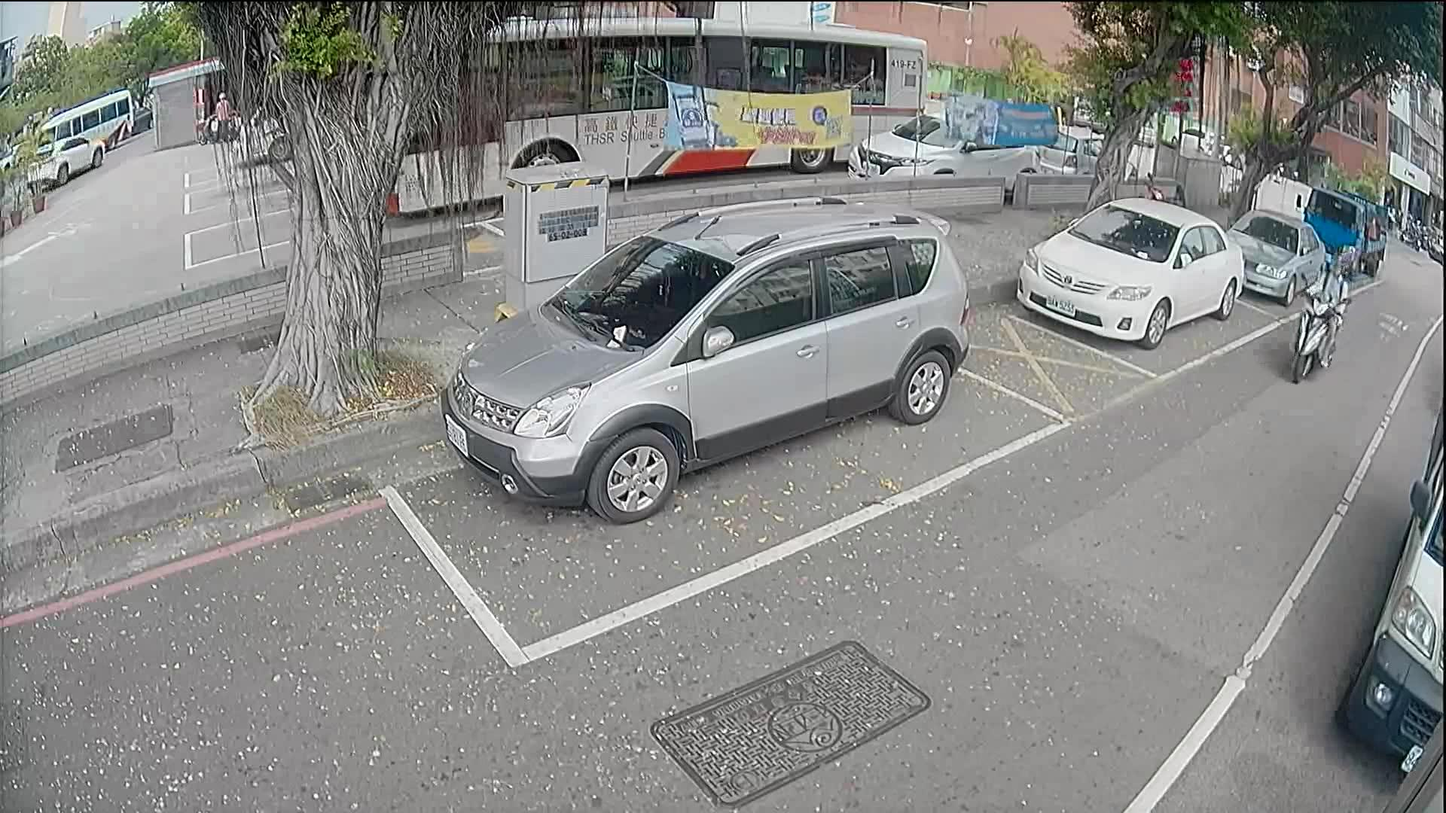person: (1298, 253, 1351, 373), (208, 85, 232, 143)
